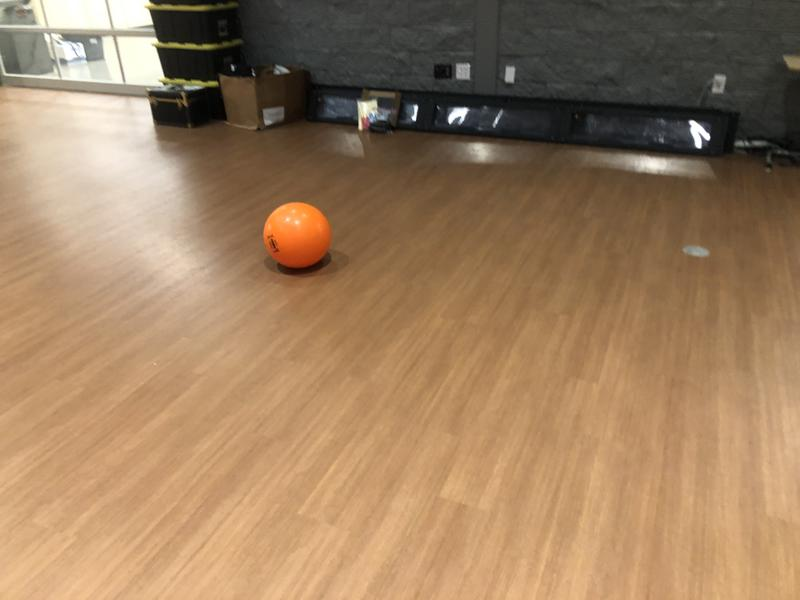ball: (265, 201, 330, 266)
